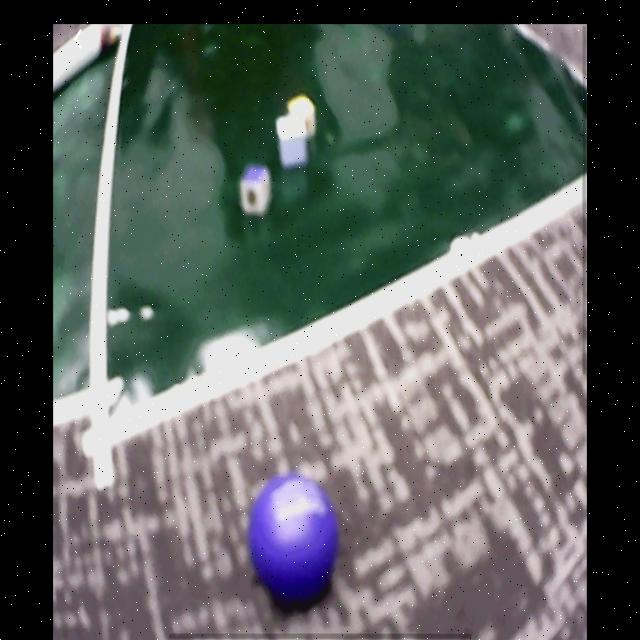ball: (250, 473, 339, 599)
